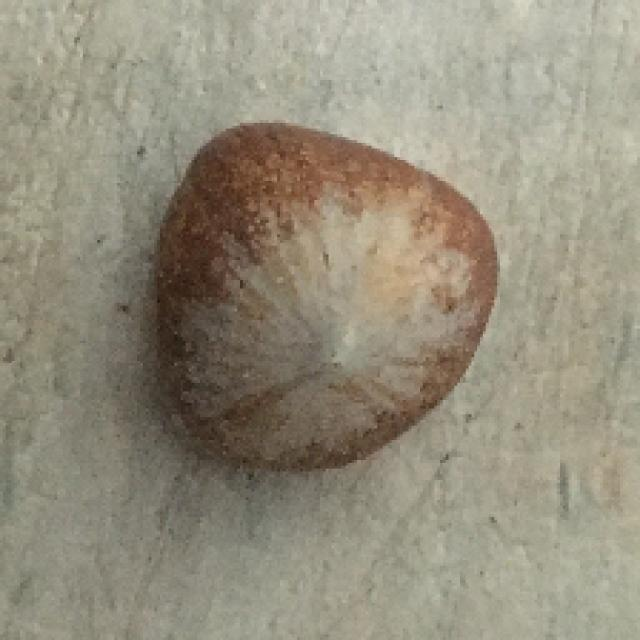qualityHazelnut: (145, 112, 504, 480)
